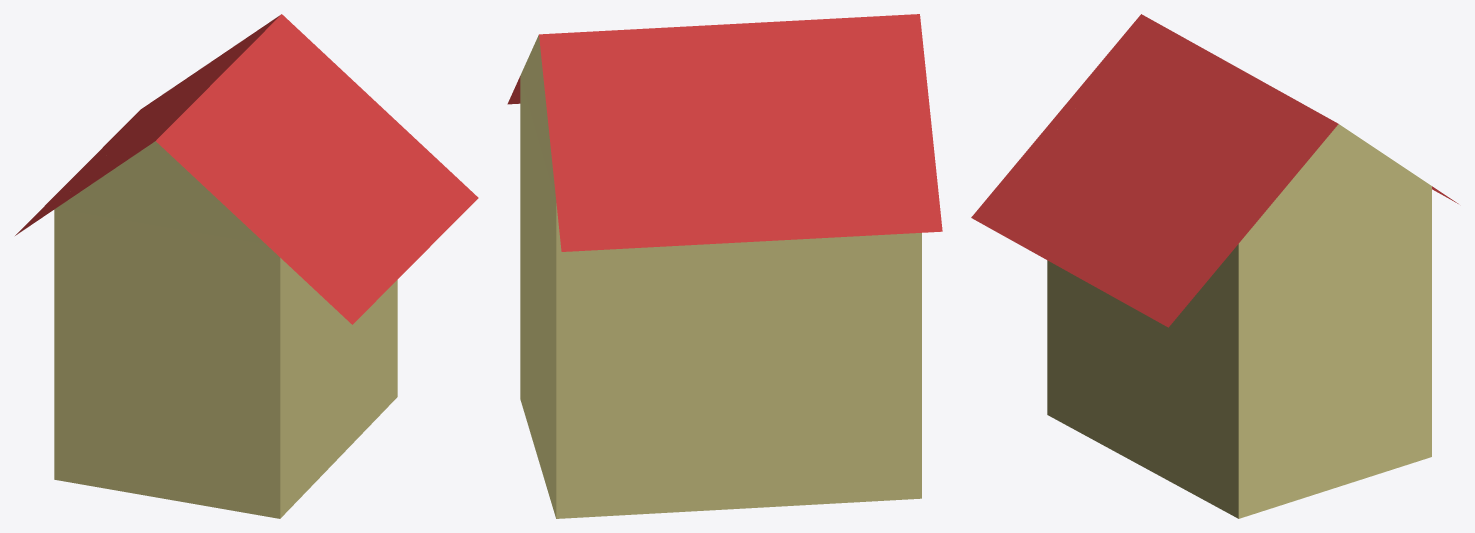
3 views of the same model, side by side, from view 1: azimuth 30°, elevation 25°; view 2: azimuth 150°, elevation 25°; view 3: azimuth 270°, elevation 25° (orthographic). The views are drawn at different scales.
Bounding box in the file's own units: 13.61 × 13.83 × 11.3.
